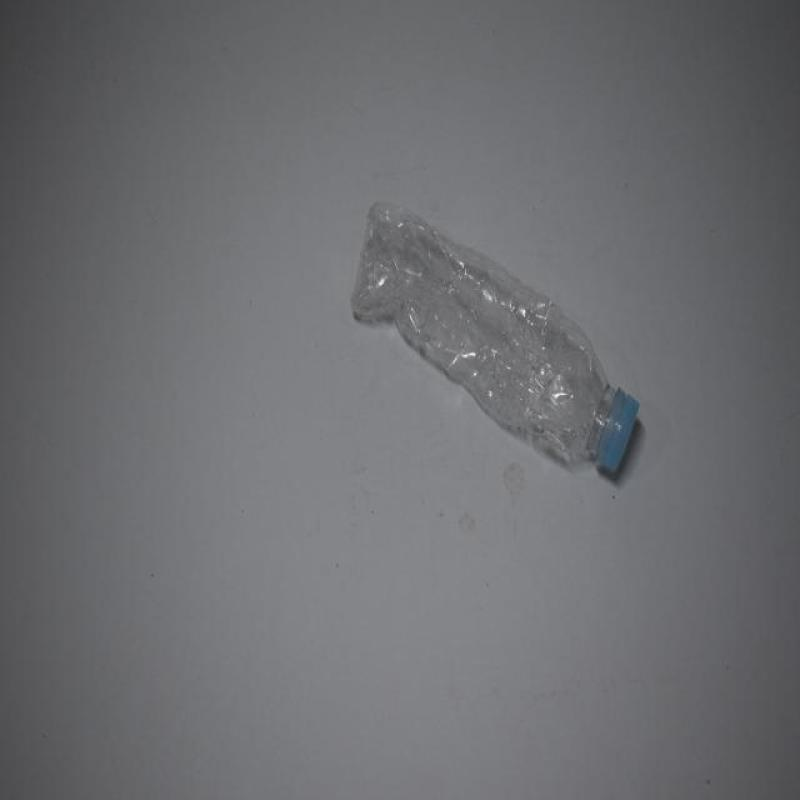botella: (352, 200, 642, 480)
